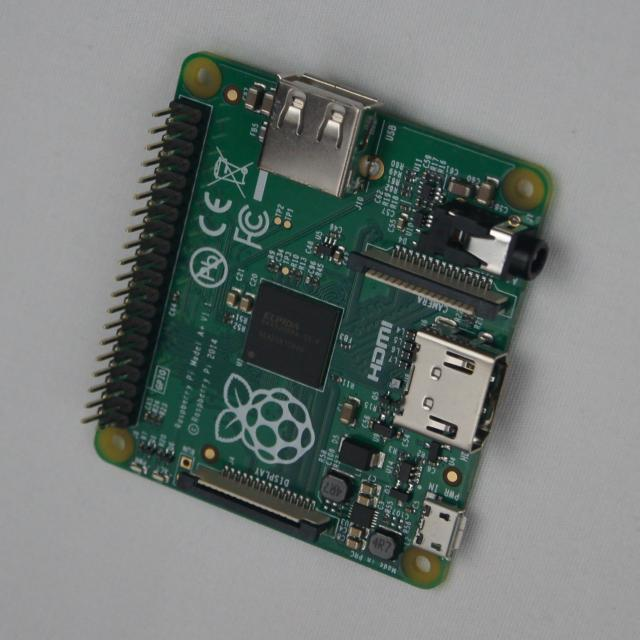Raspberry-Pi-1-A-: (91, 54, 553, 588)
